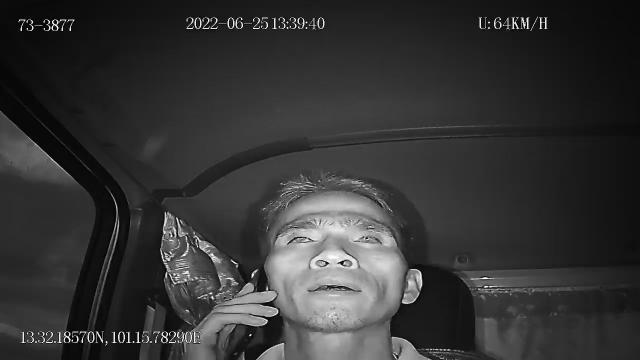PhoneUse: (222, 267, 268, 360)
SafeDriving: (281, 226, 323, 250), (348, 226, 389, 250)
